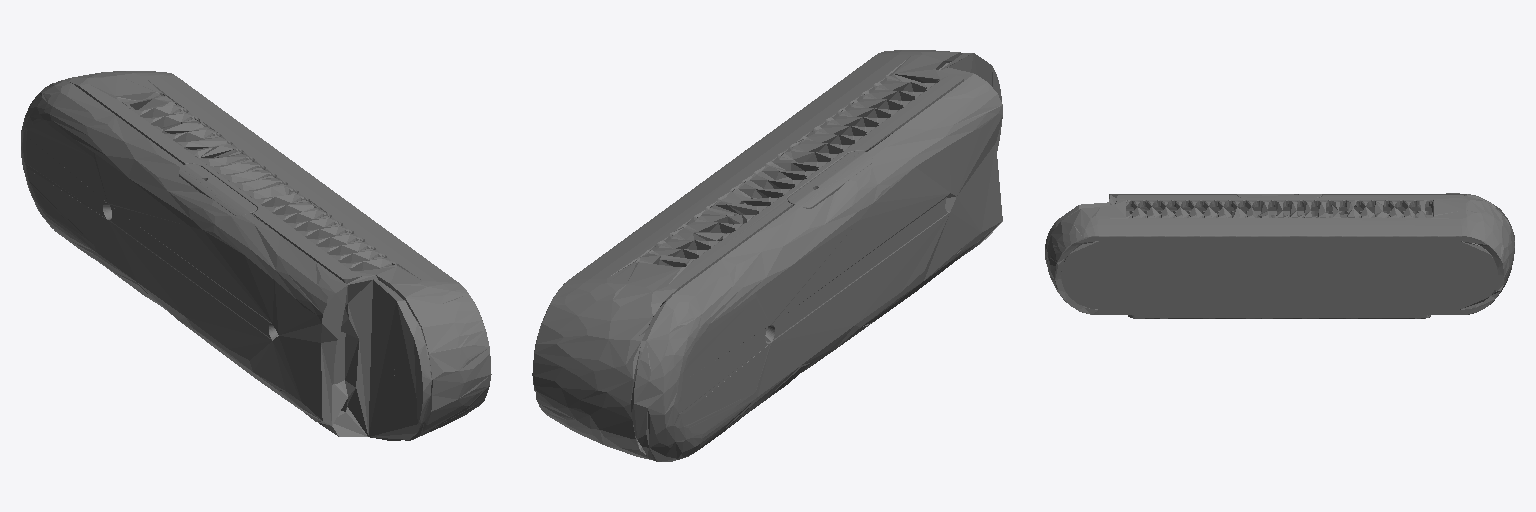
URDF robot description (realsense_d415_standalone):
<?xml version='1.0' encoding='utf-8'?>
<robot name="realsense_d415_standalone">
  <material name="aluminum">
    <color rgba="0.5 0.5 0.5 1" />
  </material>
  <material name="plastic">
    <color rgba="0.1 0.1 0.1 1" />
  </material>
  <link name="realsense_d415_mount" />
  
  <joint name="camera_joint" type="fixed">
    <origin rpy="0 0 0" xyz="0 0 0" />
    <parent link="realsense_d415_mount" />
    <child link="camera_bottom_screw_frame" />
  </joint>
  <link name="camera_bottom_screw_frame" />
  <joint name="camera_link_joint" type="fixed">
    <origin rpy="0 0 0" xyz="0 0.02 0.0115" />
    <parent link="camera_bottom_screw_frame" />
    <child link="camera_link" />
  </joint>
  <link name="camera_link">
    <visual>
      <origin rpy="1.5707963267948966 0 1.5707963267948966" xyz="0.00987 -0.02 0" />
      <geometry>
        <mesh filename="../meshes/raw/d415.stl" />
      </geometry>
      <material name="aluminum" />
    </visual>
    <collision>
      <origin rpy="0 0 0" xyz="0 -0.02 0" />
      <geometry>
        <box size="0.02005 0.099 0.023" />
      </geometry>
    </collision>
    <inertial>
      <mass value="0.072" />
      
      <origin xyz="0 0 0" />
      <inertia ixx="0.003881243" ixy="0.0" ixz="0.0" iyy="0.000498940" iyz="0.0" izz="0.003879257" />
    </inertial>
  </link>
  
  <joint name="camera_depth_joint" type="fixed">
    <origin rpy="0 0 0" xyz="0 0 0" />
    <parent link="camera_link" />
    <child link="camera_depth_frame" />
  </joint>
  <link name="camera_depth_frame" />
  <joint name="camera_depth_optical_joint" type="fixed">
    <origin rpy="-1.5707963267948966 0 -1.5707963267948966" xyz="0 0 0" />
    <parent link="camera_depth_frame" />
    <child link="camera_depth_optical_frame" />
  </joint>
  <link name="camera_depth_optical_frame" />
  
  <joint name="camera_infra1_joint" type="fixed">
    <origin rpy="0 0 0" xyz="0 0.0 0" />
    <parent link="camera_link" />
    <child link="camera_infra1_frame" />
  </joint>
  <link name="camera_infra1_frame" />
  <joint name="camera_infra1_optical_joint" type="fixed">
    <origin rpy="-1.5707963267948966 0 -1.5707963267948966" xyz="0 0 0" />
    <parent link="camera_infra1_frame" />
    <child link="camera_infra1_optical_frame" />
  </joint>
  <link name="camera_infra1_optical_frame" />
  
  <joint name="camera_infra2_joint" type="fixed">
    <origin rpy="0 0 0" xyz="0 -0.055 0" />
    <parent link="camera_link" />
    <child link="camera_infra2_frame" />
  </joint>
  <link name="camera_infra2_frame" />
  <joint name="camera_infra2_optical_joint" type="fixed">
    <origin rpy="-1.5707963267948966 0 -1.5707963267948966" xyz="0 0 0" />
    <parent link="camera_infra2_frame" />
    <child link="camera_infra2_optical_frame" />
  </joint>
  <link name="camera_infra2_optical_frame" />
  
  <joint name="camera_color_joint" type="fixed">
    <origin rpy="0 0 0" xyz="0 0.015 0" />
    <parent link="camera_link" />
    <child link="camera_color_frame" />
  </joint>
  <link name="camera_color_frame" />
  <joint name="camera_color_optical_joint" type="fixed">
    <origin rpy="-1.5707963267948966 0 -1.5707963267948966" xyz="0 0 0" />
    <parent link="camera_color_frame" />
    <child link="camera_color_optical_frame" />
  </joint>
  <link name="camera_color_optical_frame" />
</robot>

--- Facts derived from the render (not from the file) ---
The picture shows the robot from 3 angles, left to right: view 1: azimuth 30°, elevation 25°; view 2: azimuth 150°, elevation 25°; view 3: azimuth 270°, elevation 25°; orthographic projection.
Model realsense_d415_standalone with 11 links and 10 joints (10 fixed), rooted at realsense_d415_mount, posed every joint at zero.
Links seen in each view (by area): view 1: camera_link; view 2: camera_link; view 3: camera_link.
Boxes of the visible links, left/top/right/bottom form: camera_link: left=21, top=71, right=491, bottom=440; camera_link: left=532, top=50, right=1002, bottom=461; camera_link: left=1045, top=193, right=1514, bottom=318.
Bounding box of the posed robot: 0.0203 × 0.099 × 0.0238 m (x, y, z).
1 mesh visuals loaded from 1 distinct referenced files (1 binary STL).
